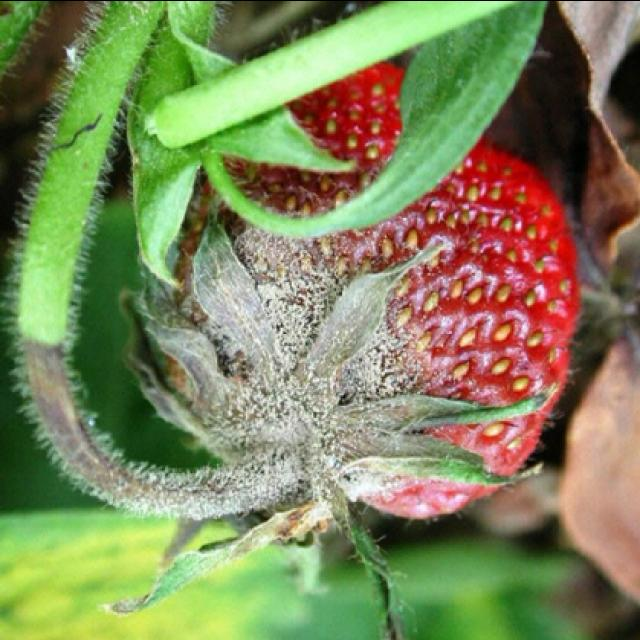Gray Mold: (19, 103, 576, 617)
